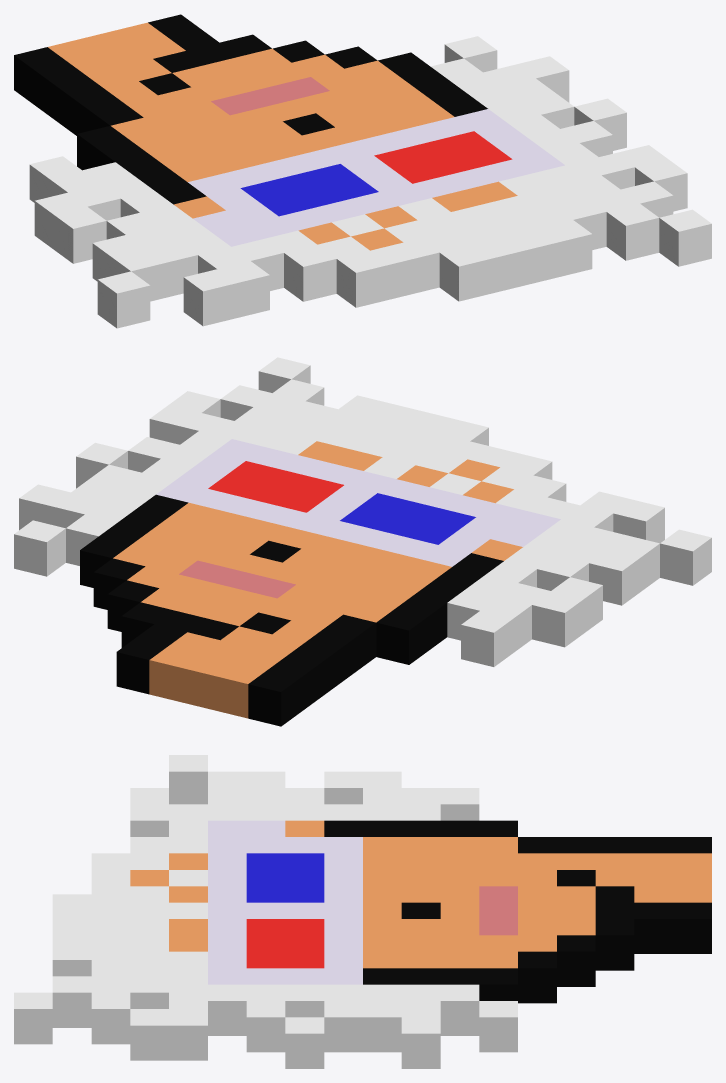
Rendered from cryptopunk1.fbx.
3 renders of one model, top to bottom at view 1: azimuth 30°, elevation 25°; view 2: azimuth 150°, elevation 25°; view 3: azimuth 270°, elevation 25°, orthographic.
Visible parts, largest first — view 1: Cube.168, Cube.159, Cube.161, Cube.185, Cube.148, Cube.149, Cube.164, Cube.179, Cube.156, Cube.155, Cube.154, Cube.160 (+172 smaller); view 2: Cube.042, Cube.043, Cube.175, Cube.127, Cube.178, Cube.185, Cube.181, Cube.109, Cube.110, Cube.037, Cube.111, Cube.168 (+171 smaller); view 3: Cube.137, Cube.032, Cube.129, Cube.132, Cube.148, Cube.036, Cube.126, Cube.133, Cube.030, Cube.149, Cube.031, Cube.037 (+172 smaller).
Part boxes in pixels (<box>): Cube.168: <box>183,269,236,326</box>; Cube.159: <box>439,244,492,301</box>; Cube.161: <box>336,250,389,307</box>; Cube.185: <box>97,271,150,328</box>; Cube.148: <box>606,203,659,260</box>; Cube.149: <box>659,209,711,266</box>; Cube.164: <box>284,244,336,301</box>; Cube.179: <box>54,206,106,263</box>; Cube.156: <box>473,236,525,293</box>; Cube.155: <box>506,228,558,284</box>; Cube.154: <box>540,220,592,276</box>; Cube.160: <box>370,242,422,299</box>; Cube.042: <box>248,670,300,726</box>; Cube.043: <box>376,608,428,664</box>; Cube.175: <box>461,611,512,666</box>; Cube.127: <box>14,520,65,576</box>; Cube.178: <box>532,591,583,647</box>; Cube.185: <box>660,529,711,585</box>; Cube.181: <box>589,549,640,605</box>; Cube.109: <box>215,662,266,718</box>; Cube.110: <box>182,654,233,710</box>; Cube.037: <box>116,638,167,694</box>; Cube.111: <box>149,646,200,702</box>; Cube.168: <box>613,499,664,543</box>; Cube.137: <box>91,992,130,1044</box>; Cube.032: <box>595,919,634,970</box>; Cube.129: <box>401,1017,440,1068</box>; Cube.132: <box>285,1017,324,1068</box>; Cube.148: <box>52,976,91,1027</box>; Cube.036: <box>634,902,673,953</box>; Cube.126: <box>440,984,479,1035</box>; Cube.133: <box>246,1001,285,1052</box>; Cube.030: <box>518,951,556,1003</box>; Cube.149: <box>14,992,52,1044</box>; Cube.031: <box>557,935,595,986</box>; Cube.037: <box>673,902,711,953</box>.
Size of the model in its own units: 3400 by 200 by 3600.
